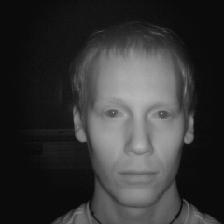normal: (50, 17, 201, 213)
